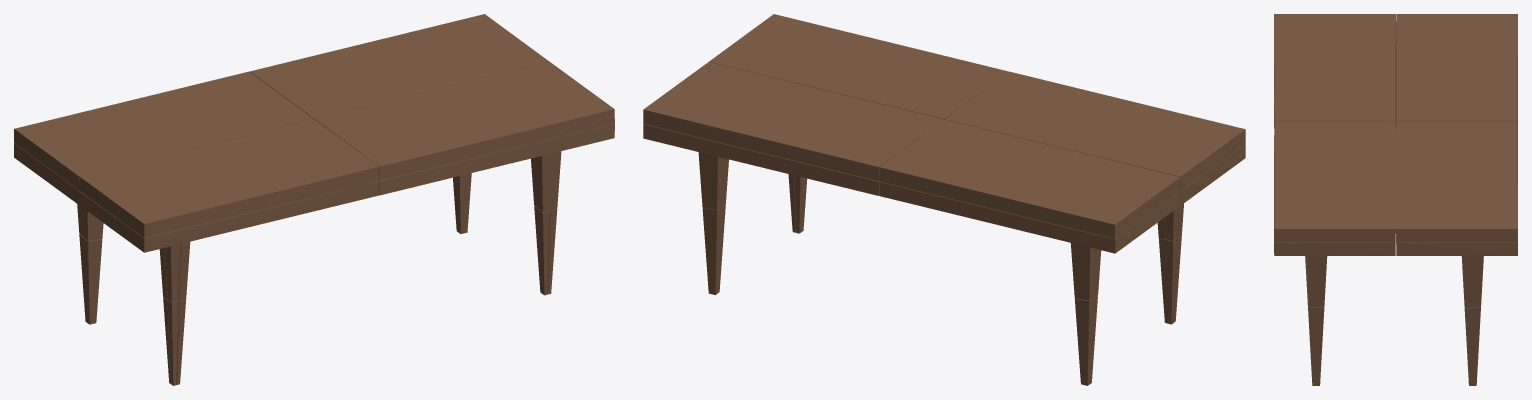
File: Mesa_Salón_Roto.fbx
3 renders of one model, left to right at view 1: azimuth 30°, elevation 25°; view 2: azimuth 150°, elevation 25°; view 3: azimuth 270°, elevation 25°, orthographic. The views are drawn at different scales.
Visible parts, largest first — view 1: Mesa.001_cell.001, Mesa.001_cell.005, Mesa.001_cell.003, Mesa.001_cell.007, Mesa.001_cell, Mesa.001_cell.004, Mesa_cell.001, Mesa_cell.005, Mesa_cell.009, Mesa.001_cell.002, Mesa_cell.003, Mesa_cell.014 (+5 smaller); view 2: Mesa.001_cell.003, Mesa.001_cell.007, Mesa.001_cell.001, Mesa.001_cell.005, Mesa.001_cell.002, Mesa.001_cell.006, Mesa_cell.003, Mesa_cell.005, Mesa_cell.002, Mesa_cell.013, Mesa_cell.006, Mesa.001_cell (+1 smaller); view 3: Mesa.001_cell.005, Mesa.001_cell.007, Mesa.001_cell.003, Mesa.001_cell.001, Mesa.001_cell.006, Mesa.001_cell.004, Mesa_cell.013, Mesa_cell, Mesa_cell.003, Mesa_cell.004.
Part boxes in pixels (x1,y1,x2,y2): Mesa.001_cell.001: (79,119,379,238); Mesa.001_cell.005: (314,61,614,180); Mesa.001_cell.003: (14,71,313,190); Mesa.001_cell.007: (249,14,549,118); Mesa.001_cell: (79,181,379,252); Mesa.001_cell.004: (379,123,614,195); Mesa_cell.001: (531,151,561,212); Mesa_cell.005: (79,233,102,324); Mesa_cell.009: (534,205,549,295); Mesa.001_cell.002: (14,143,79,204); Mesa_cell.003: (453,173,471,233); Mesa_cell.014: (165,244,180,302); Mesa.001_cell.003: (879,119,1180,238); Mesa.001_cell.007: (643,62,943,181); Mesa.001_cell.001: (945,71,1245,190); Mesa.001_cell.005: (709,14,1009,119); Mesa.001_cell.002: (879,181,1180,253); Mesa.001_cell.006: (643,124,879,195); Mesa_cell.003: (702,205,725,294); Mesa_cell.005: (1075,296,1097,385); Mesa_cell.002: (1070,243,1101,300); Mesa_cell.013: (698,152,728,209); Mesa_cell.006: (1159,238,1177,324); Mesa.001_cell: (1180,144,1245,205); Mesa.001_cell.005: (1274,121,1395,242); Mesa.001_cell.007: (1396,121,1517,242); Mesa.001_cell.003: (1396,14,1517,130); Mesa.001_cell.001: (1274,14,1395,122); Mesa.001_cell.006: (1396,185,1517,255); Mesa.001_cell.004: (1274,135,1395,255); Mesa_cell.013: (1395,179,1483,308); Mesa_cell: (1308,307,1324,385); Mesa_cell.003: (1464,307,1480,385); Mesa_cell.004: (1306,256,1327,307).
Bounding box in the file's own units: 233 × 89.29 × 112.
